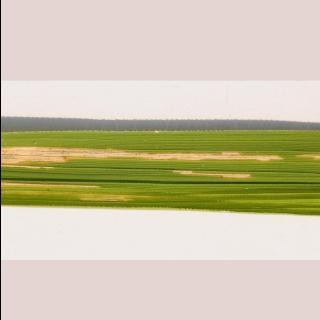Hawar-Daun: (0, 134, 320, 200)
